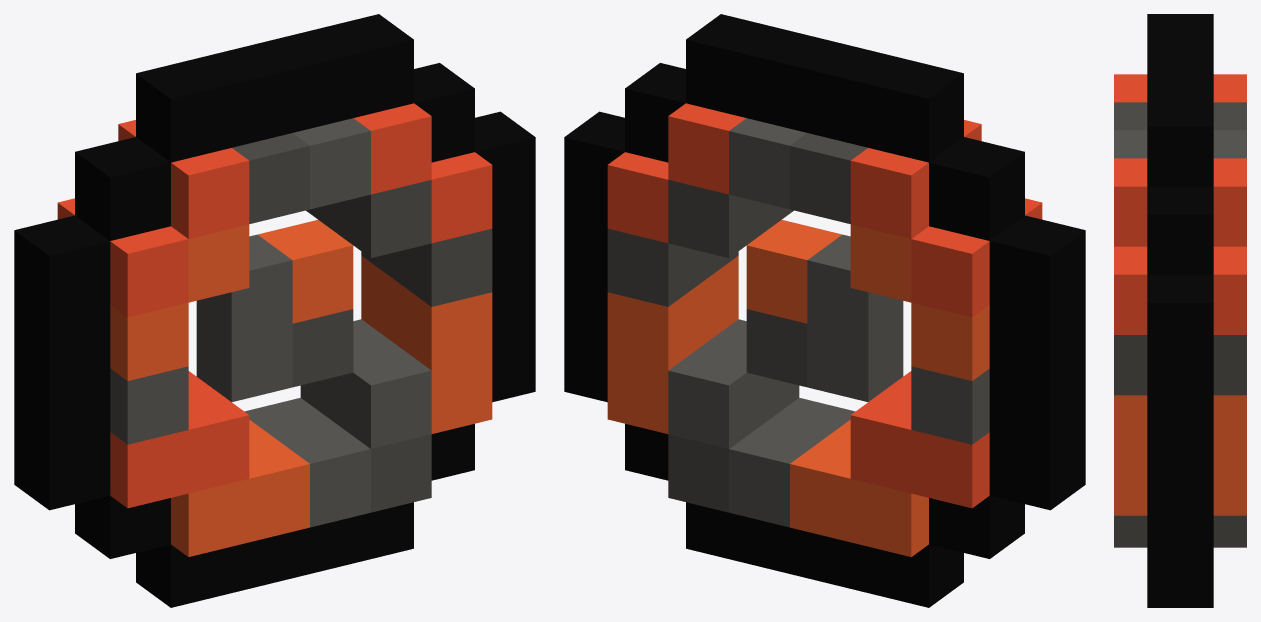
The model's file is Molten Cog.glb.
3 views of the same model, side by side, from view 1: azimuth 30°, elevation 25°; view 2: azimuth 150°, elevation 25°; view 3: azimuth 270°, elevation 25° (orthographic). The views are drawn at different scales.
Parts seen in each view (by area): view 1: generated(Clone); view 2: generated(Clone); view 3: generated(Clone).
Part boxes in pixels (x1,y1,x2,y2): generated(Clone): (14,14,535,607); generated(Clone): (564,14,1085,607); generated(Clone): (1114,14,1246,607).
Size of the model in its own units: 8 by 8 by 2.
1 material, 1 textured.
